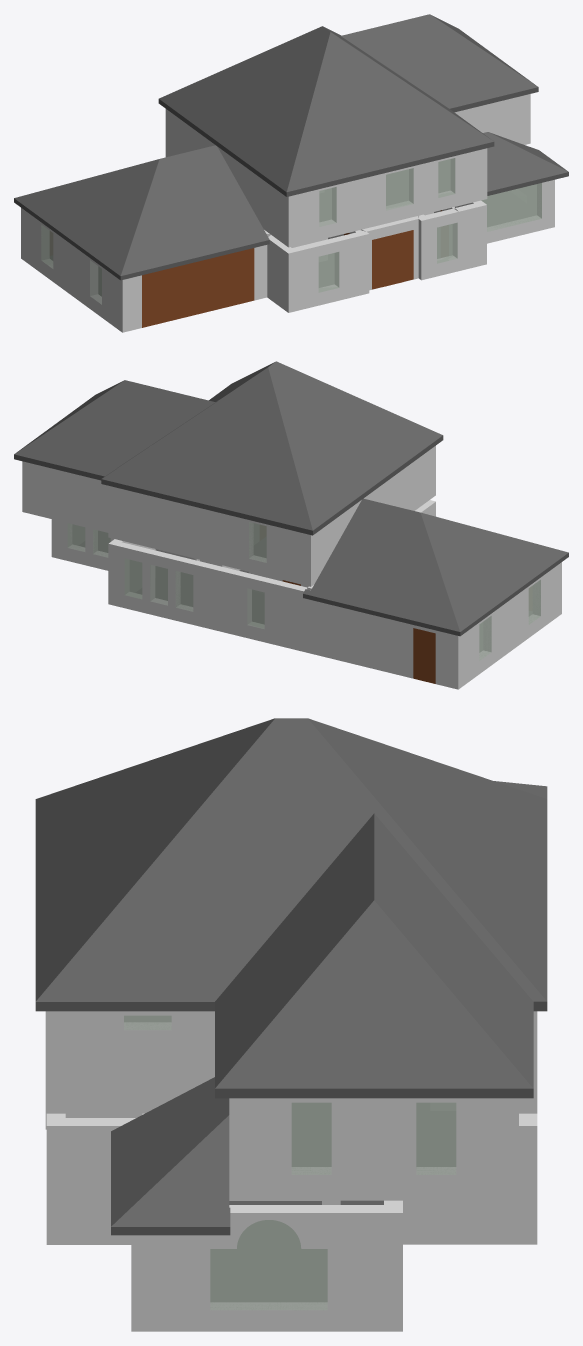
Rendered from 2_floors_house.dae.
3 renders of one model, top to bottom at view 1: azimuth 30°, elevation 25°; view 2: azimuth 150°, elevation 25°; view 3: azimuth 270°, elevation 25°, orthographic. The views are drawn at different scales.
Visible parts, largest first — view 1: 9936_40DegSlopeHipRoofWoodShakes, 9896_40DegSlopeHipRoofWoodShakes, 5444_40DegSlopeHipRoofWoodShakes, 10008_40DegSlopeHipRoofWoodShakes, 5410_40DegSlopeHipRoofWoodShakes, 2252_4800mmPanelLiftDoor, 2362_230mmBrickBlockWall, 1482_230mmBrickBlockWall, 5778_230mmBrickBlockWall, 5490_40DegSlopeHipRoofWoodShakes, 8798_230mmBrickBlockWall, 6684_120mmVinylSiding (+19 smaller); view 2: 9862_40DegSlopeHipRoofWoodShakes, 9896_40DegSlopeHipRoofWoodShakes, 5368_40DegSlopeHipRoofWoodShakes, 1670_230mmBrickBlockWall, 10078_40DegSlopeHipRoofWoodShakes, 5410_40DegSlopeHipRoofWoodShakes, 68_230mmBrickBlockWall, 7726_230mmBrickBlockWall, 2362_230mmBrickBlockWall, 8618_120mmVinylSiding, 5578_230mmBrickBlockWall, 5978_230mmBrickBlockWall (+12 smaller); view 3: 9970_40DegSlopeHipRoofWoodShakes, 10044_40DegSlopeHipRoofWoodShakes, 6314_230mmBrickBlockWall, 9936_40DegSlopeHipRoofWoodShakes, 9862_40DegSlopeHipRoofWoodShakes, 704_230mmBrickBlockWall, 6082_230mmBrickBlockWall, 10078_40DegSlopeHipRoofWoodShakes, 10008_40DegSlopeHipRoofWoodShakes, 934_1210diaarchedwindow, 1298_230mmBrickBlockWall, 5490_40DegSlopeHipRoofWoodShakes (+6 smaller).
Boxes of the visible parts, x1,y1,x2,y2 form: 9936_40DegSlopeHipRoofWoodShakes: [286, 32, 494, 196]; 9896_40DegSlopeHipRoofWoodShakes: [158, 26, 330, 196]; 5444_40DegSlopeHipRoofWoodShakes: [120, 145, 269, 280]; 10008_40DegSlopeHipRoofWoodShakes: [341, 14, 538, 112]; 5410_40DegSlopeHipRoofWoodShakes: [14, 159, 159, 279]; 2252_4800mmPanelLiftDoor: [142, 248, 254, 327]; 2362_230mmBrickBlockWall: [21, 208, 122, 332]; 1482_230mmBrickBlockWall: [288, 232, 369, 312]; 5778_230mmBrickBlockWall: [288, 176, 373, 247]; 5490_40DegSlopeHipRoofWoodShakes: [483, 132, 568, 195]; 8798_230mmBrickBlockWall: [428, 148, 487, 212]; 6684_120mmVinylSiding: [454, 94, 530, 144]; 9862_40DegSlopeHipRoofWoodShakes: [101, 367, 312, 535]; 9896_40DegSlopeHipRoofWoodShakes: [268, 361, 443, 534]; 5368_40DegSlopeHipRoofWoodShakes: [303, 498, 460, 636]; 1670_230mmBrickBlockWall: [108, 542, 307, 652]; 10078_40DegSlopeHipRoofWoodShakes: [14, 380, 215, 480]; 5410_40DegSlopeHipRoofWoodShakes: [421, 512, 568, 635]; 68_230mmBrickBlockWall: [305, 590, 458, 689]; 7726_230mmBrickBlockWall: [108, 485, 224, 565]; 2362_230mmBrickBlockWall: [458, 562, 561, 689]; 8618_120mmVinylSiding: [22, 461, 108, 532]; 5578_230mmBrickBlockWall: [224, 514, 310, 586]; 5978_230mmBrickBlockWall: [387, 446, 435, 510]; 9970_40DegSlopeHipRoofWoodShakes: [35, 718, 373, 1011]; 10044_40DegSlopeHipRoofWoodShakes: [215, 900, 533, 1098]; 6314_230mmBrickBlockWall: [229, 1098, 518, 1200]; 9936_40DegSlopeHipRoofWoodShakes: [35, 718, 274, 1001]; 9862_40DegSlopeHipRoofWoodShakes: [308, 718, 547, 1001]; 704_230mmBrickBlockWall: [131, 1205, 402, 1331]; 6082_230mmBrickBlockWall: [45, 1011, 214, 1113]; 10078_40DegSlopeHipRoofWoodShakes: [374, 813, 533, 1088]; 10008_40DegSlopeHipRoofWoodShakes: [215, 813, 374, 1087]; 934_1210diaarchedwindow: [210, 1220, 327, 1310]; 1298_230mmBrickBlockWall: [46, 1118, 135, 1244]; 5490_40DegSlopeHipRoofWoodShakes: [111, 1077, 229, 1226].
Bounding box in the file's own units: 19.36 × 9.62 × 8.92.
